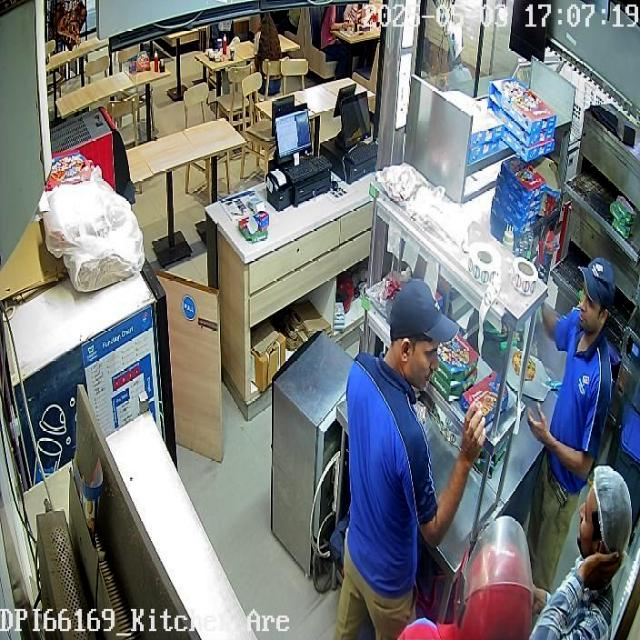helmet: (453, 516, 533, 639)
